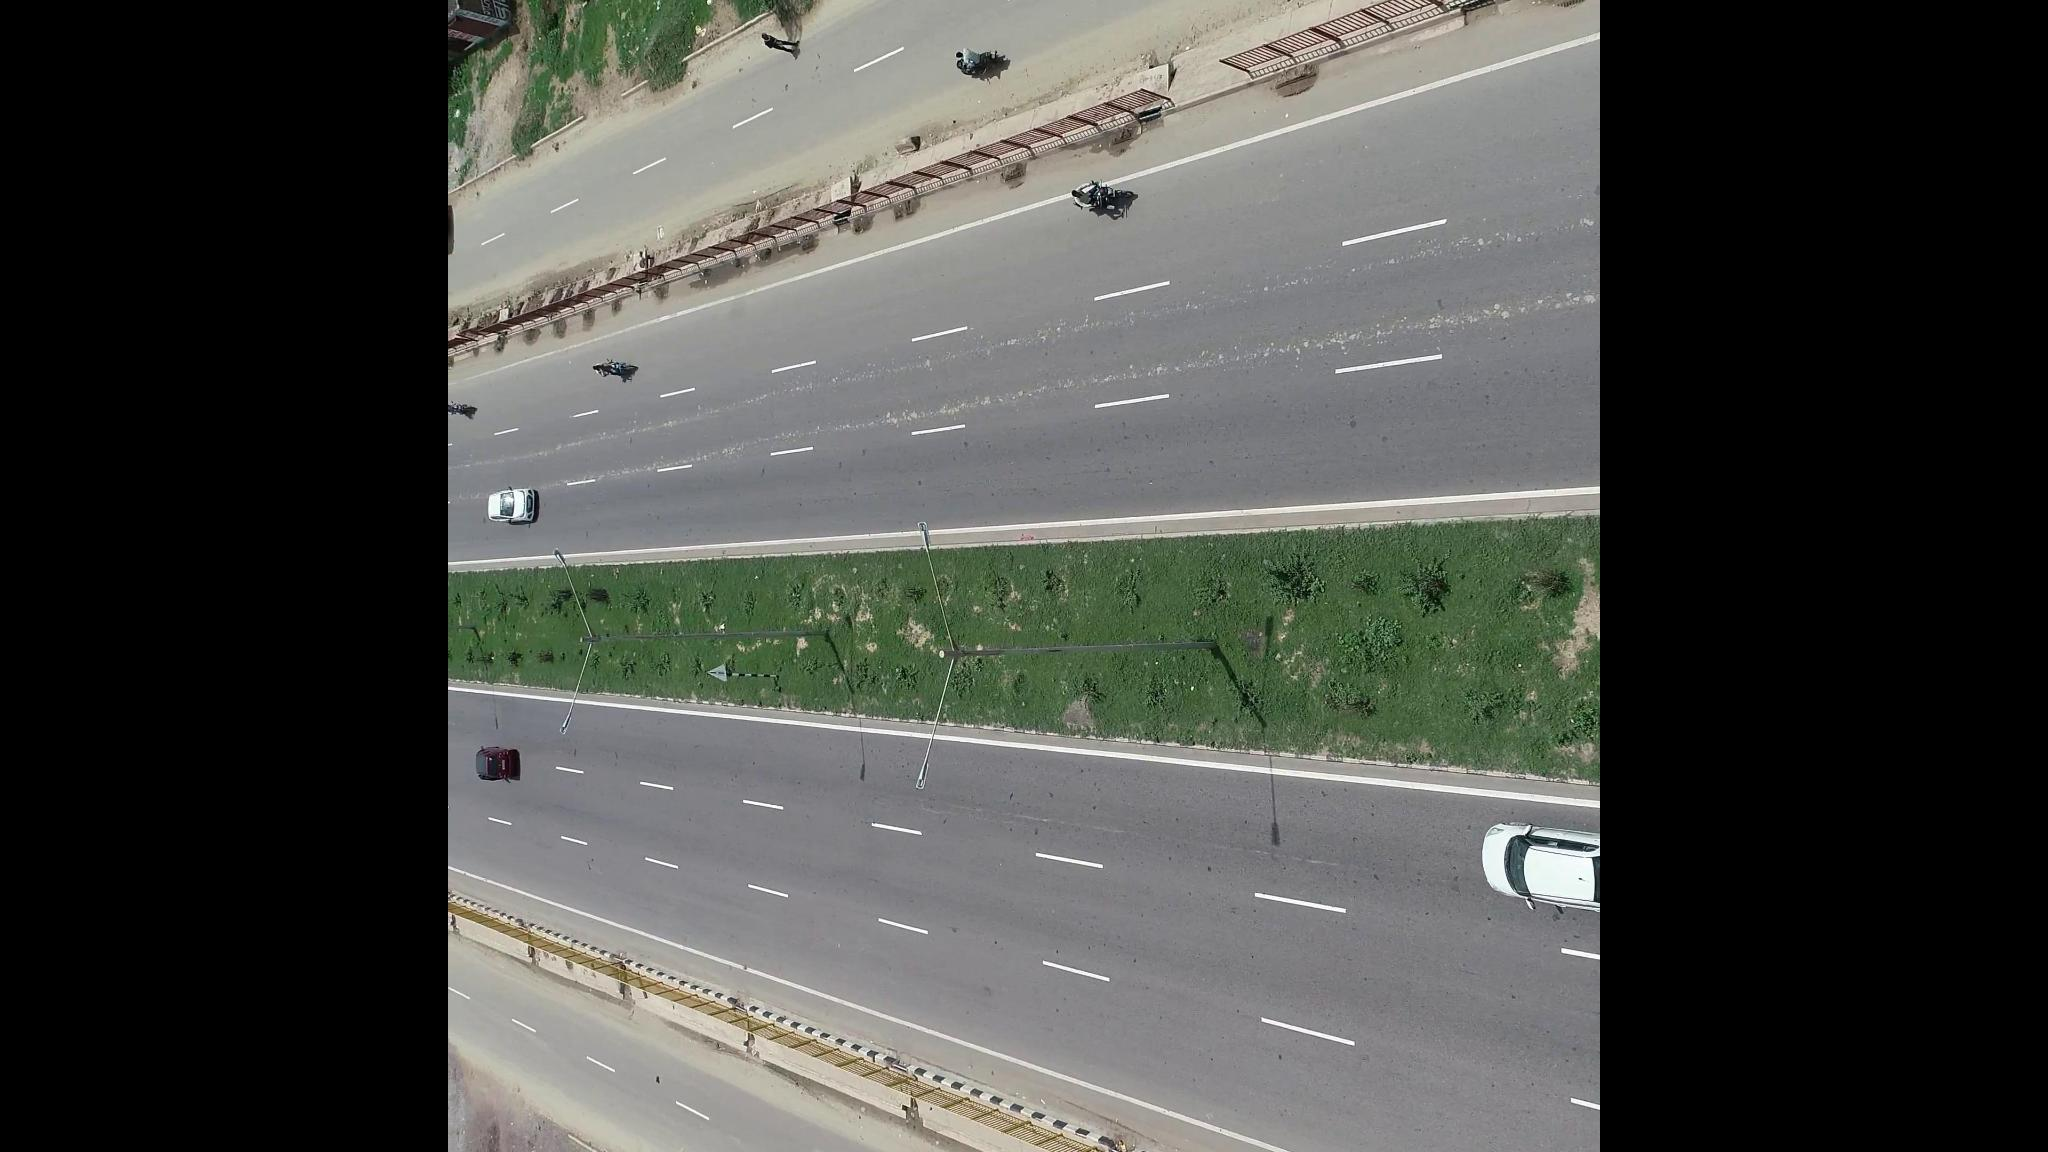Ravelling: (1312, 287, 1589, 354), (1077, 338, 1300, 390), (876, 378, 1068, 429), (928, 319, 1120, 363), (698, 414, 866, 461), (515, 418, 686, 463)
